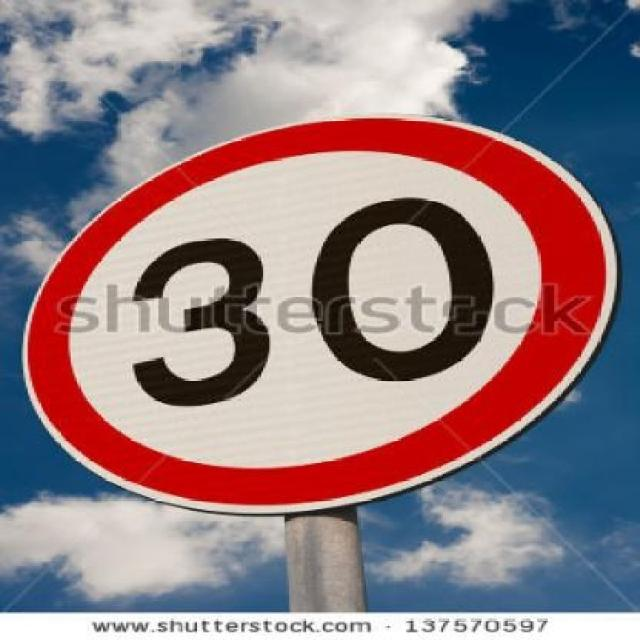forb_speed_over_30: (85, 198, 570, 424)
